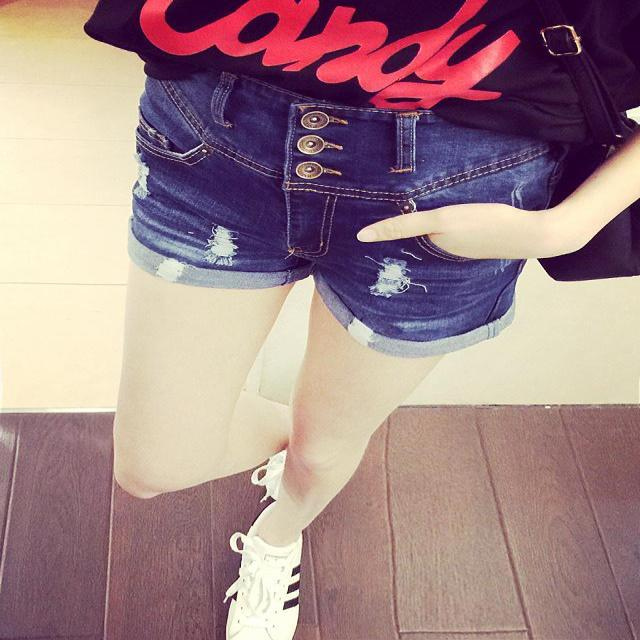shorts: (126, 50, 569, 327)
